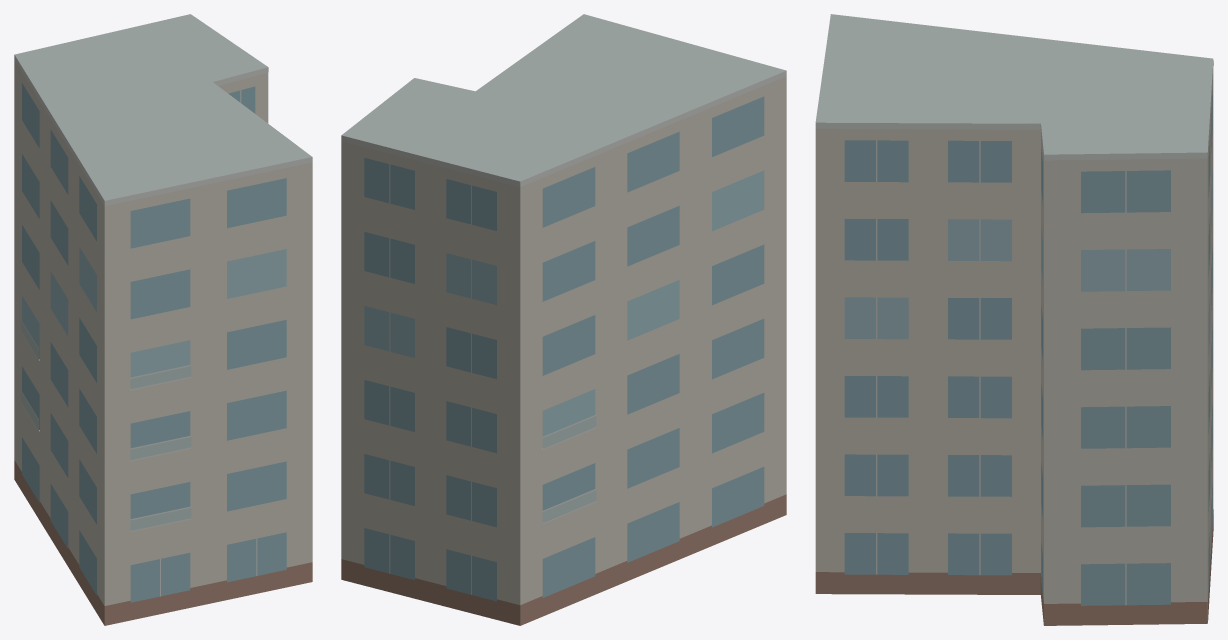
File: survey-upis-32874017.glb
The picture shows the model from 3 angles, left to right: view 1: azimuth 30°, elevation 25°; view 2: azimuth 150°, elevation 25°; view 3: azimuth 270°, elevation 25°; orthographic projection. The views are drawn at different scales.
Visible parts, largest first — view 1: survey-upis-32874017.tmp; view 2: survey-upis-32874017.tmp; view 3: survey-upis-32874017.tmp.
Part boxes in pixels (x1,y1,x2,y2): survey-upis-32874017.tmp: (14,14,312,625); survey-upis-32874017.tmp: (341,14,786,625); survey-upis-32874017.tmp: (815,14,1213,625).
Bounding box in the file's own units: 12.36 × 19.3 × 14.78.
